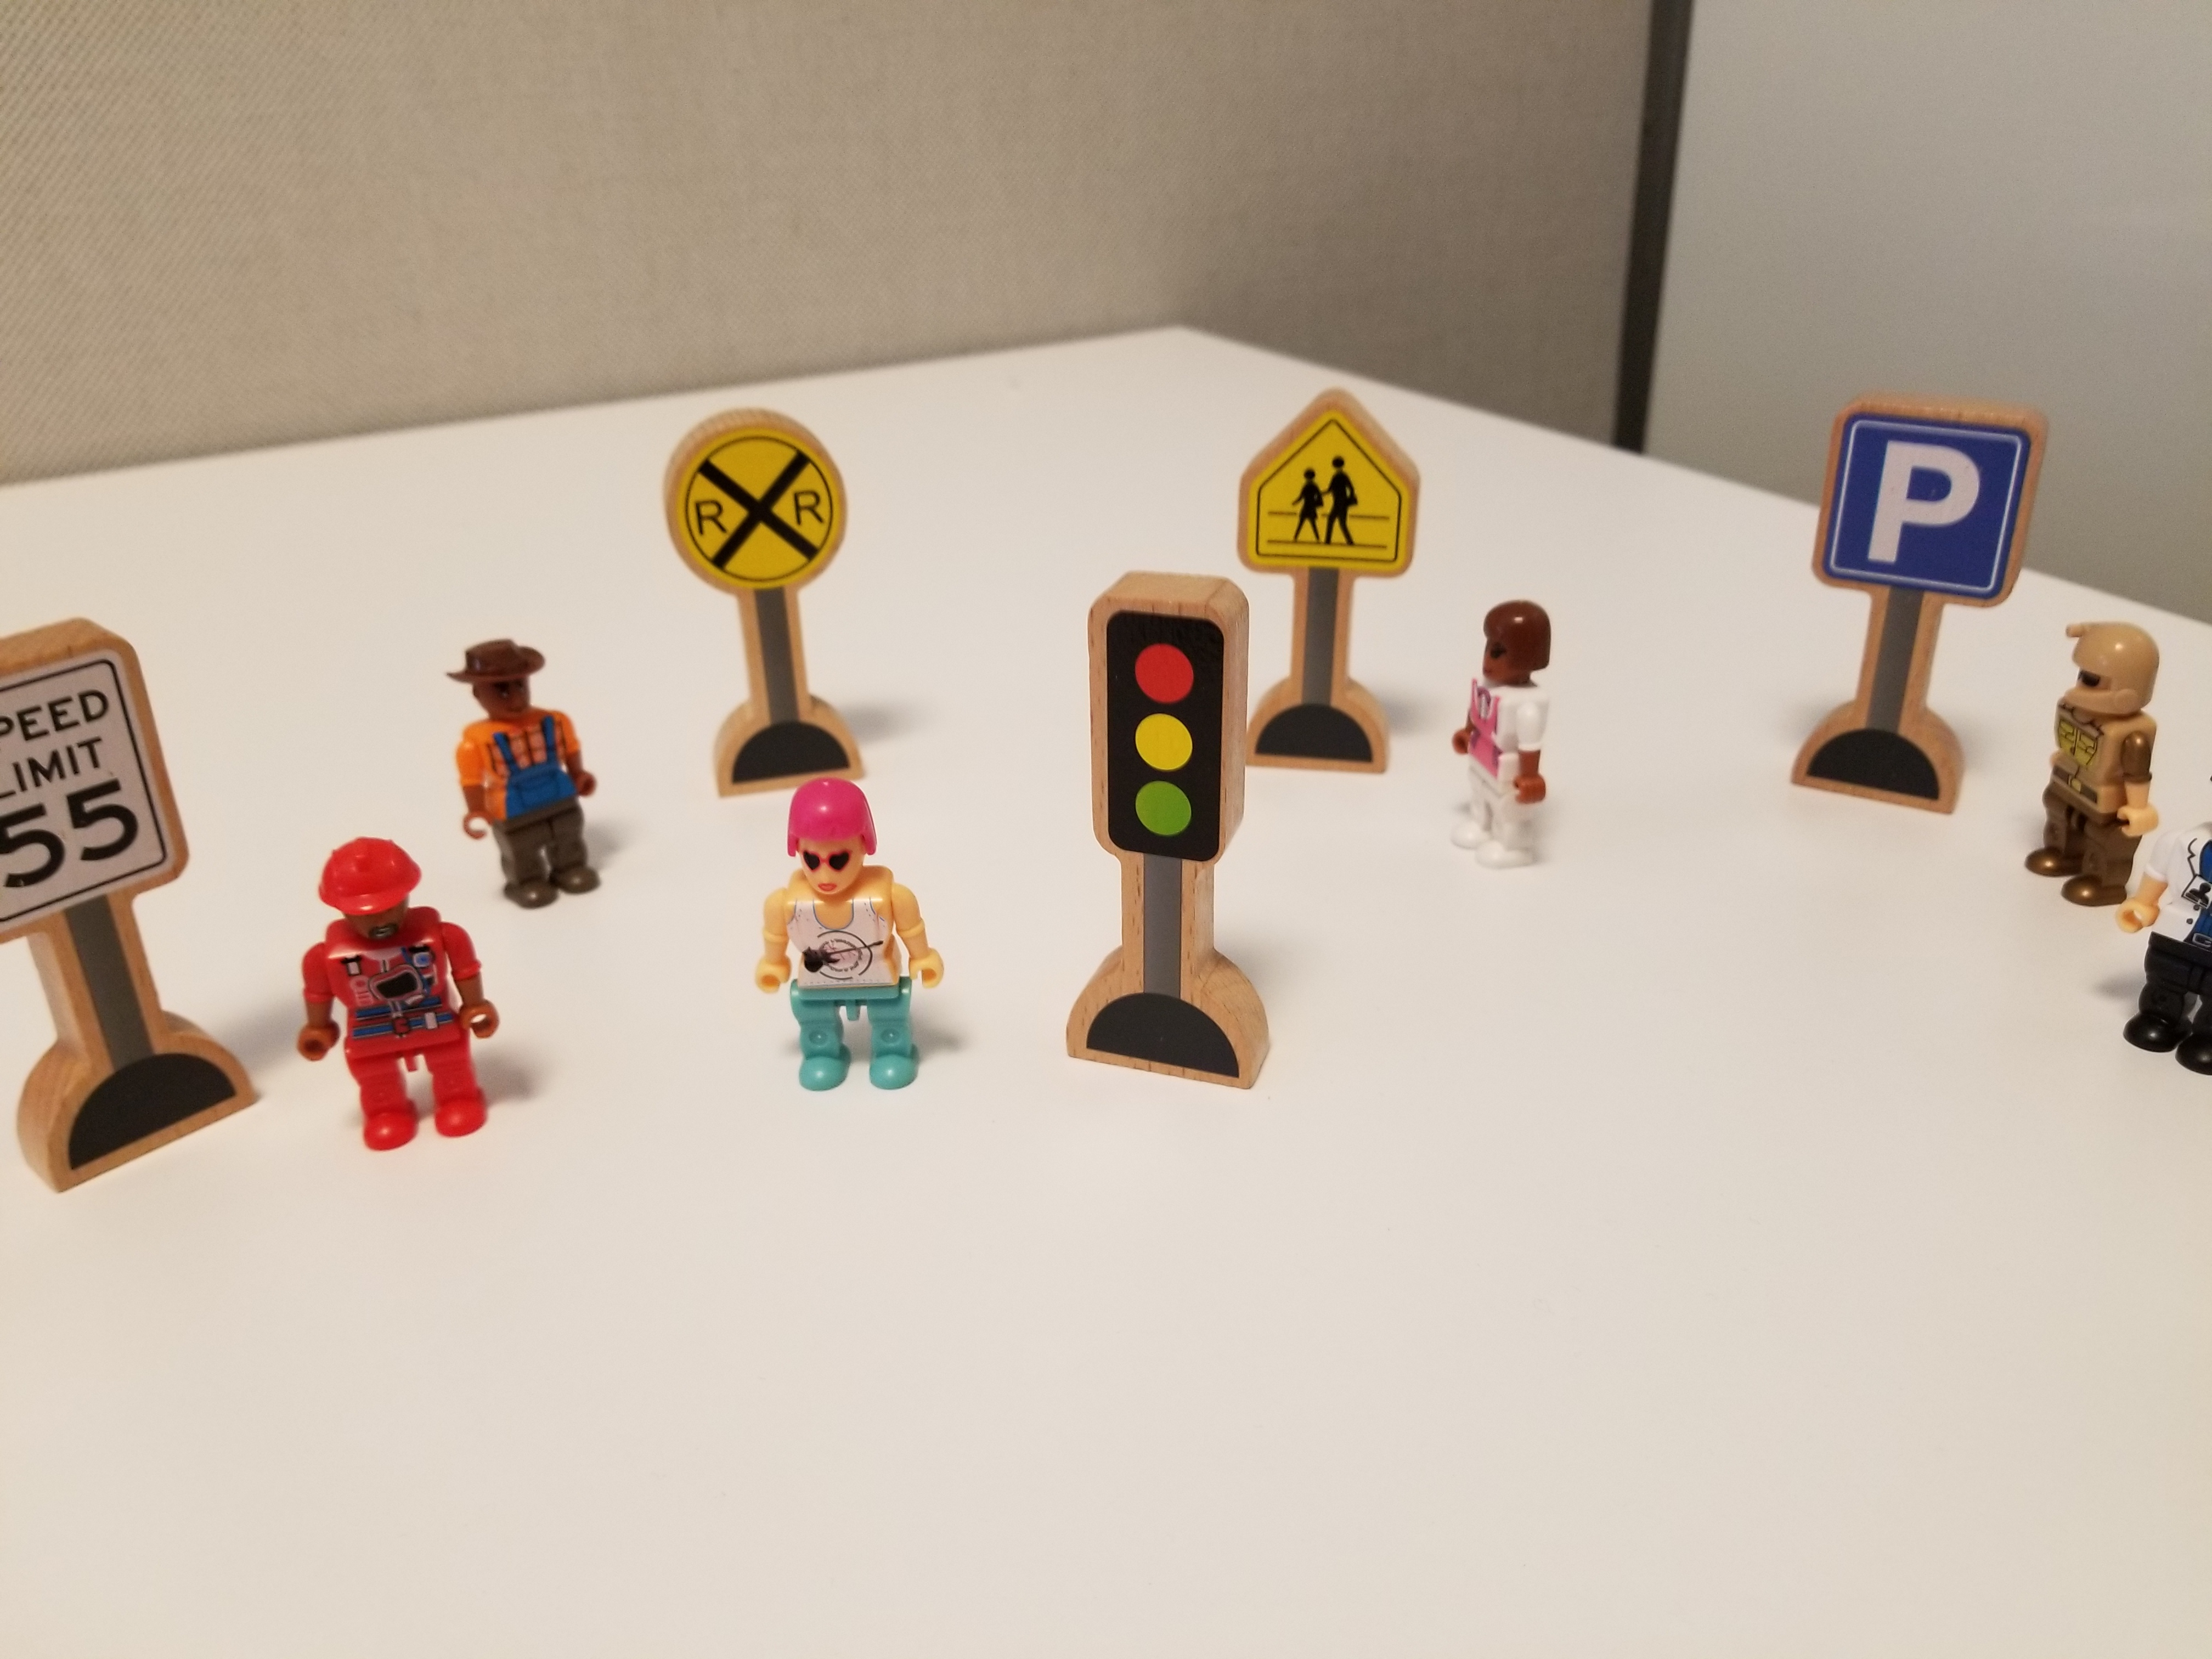Parking: (1801, 365, 2038, 866)
Pedestrian crossing: (1237, 350, 1427, 800)
Railroad Crossing: (644, 405, 872, 756)
Speed limit 55: (5, 622, 210, 1144)
Traffic Light: (1048, 543, 1296, 1111)
person: (260, 826, 528, 1173), (721, 778, 956, 1127), (429, 585, 620, 901), (1445, 574, 1581, 914), (2059, 598, 2176, 929)
